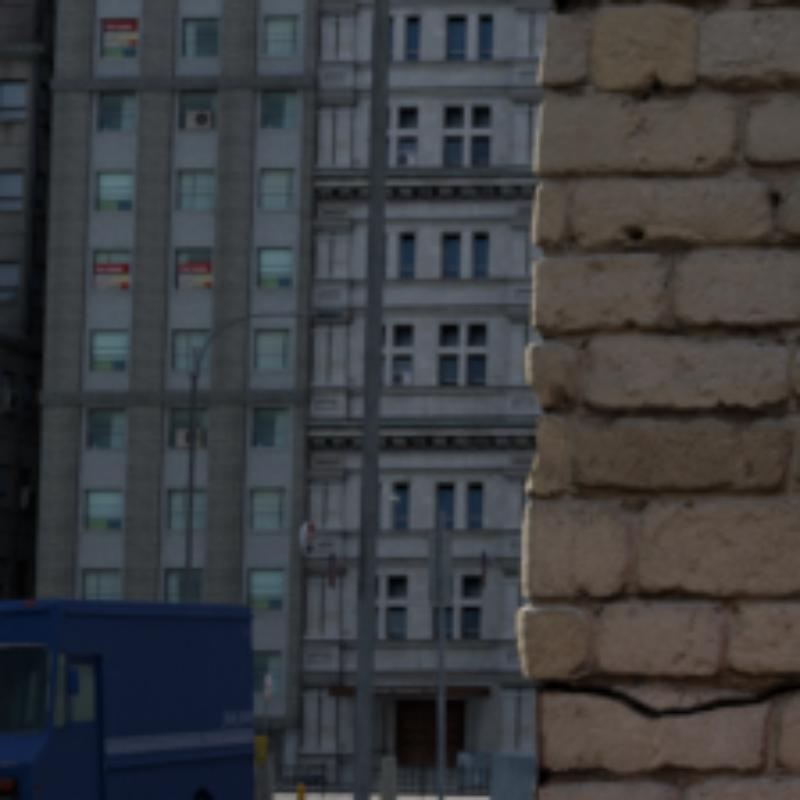pothole: (550, 680, 796, 714)
